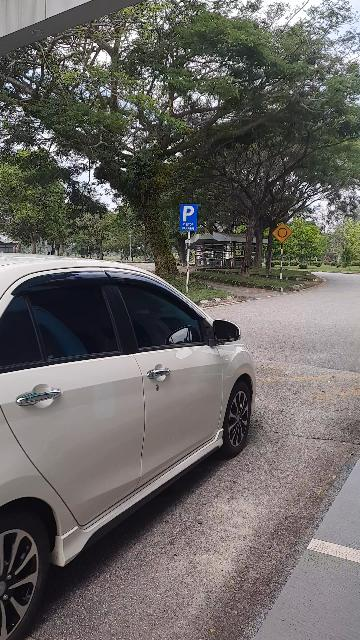car: (2, 231, 263, 640)
